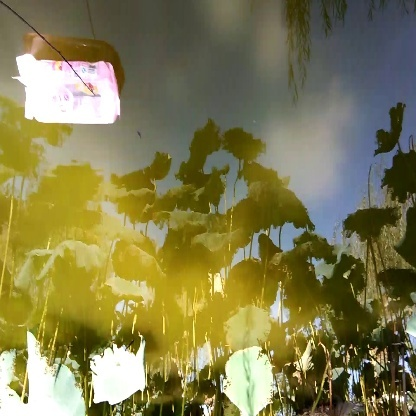plastic-bag: (8, 49, 122, 127)
